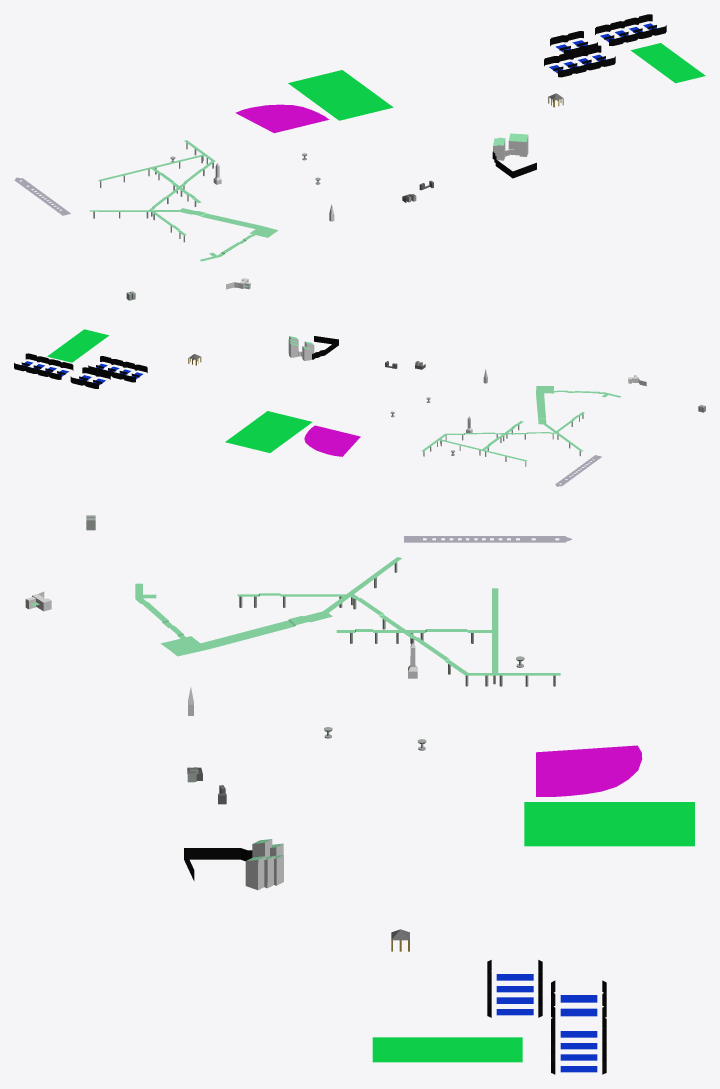
File: UNIQUES.fbx
3 views of the same model, one above another, from view 1: azimuth 30°, elevation 25°; view 2: azimuth 150°, elevation 25°; view 3: azimuth 270°, elevation 25° (orthographic). The views are drawn at different scales.
Visible parts, largest first — view 1: Wide_Soccer_Field, Building_Pathways, Baseball_Field, Slim_Soccer_Field, Pool_Towers; view 2: Wide_Soccer_Field, Building_Pathways, Baseball_Field, Slim_Soccer_Field, Pool_Towers, Pool_Gate, Fountain_Bridge; view 3: Wide_Soccer_Field, Building_Pathways, Baseball_Field, Slim_Soccer_Field, Pool_Towers, Fountain_Bridge, Pool_Gate.
Part boxes in pixels (box(x1,y1,x2,y2)): Wide_Soccer_Field: box(288, 70, 393, 120); Building_Pathways: box(89, 140, 278, 261); Baseball_Field: box(235, 104, 329, 133); Slim_Soccer_Field: box(631, 43, 705, 83); Pool_Towers: box(493, 133, 528, 160); Wide_Soccer_Field: box(225, 411, 312, 452); Building_Pathways: box(421, 386, 620, 466); Baseball_Field: box(304, 425, 360, 456); Slim_Soccer_Field: box(47, 329, 108, 362); Pool_Towers: box(288, 336, 314, 360); Pool_Gate: box(312, 336, 338, 359); Fountain_Bridge: box(555, 455, 601, 486); Wide_Soccer_Field: box(524, 802, 694, 846); Building_Pathways: box(135, 557, 560, 686); Baseball_Field: box(536, 745, 642, 796); Slim_Soccer_Field: box(372, 1037, 522, 1062); Pool_Towers: box(245, 839, 283, 890); Fountain_Bridge: box(404, 536, 571, 542); Pool_Gate: box(184, 848, 252, 880).
Bounding box in the file's own units: 89.74 × 2.59 × 46.25.
